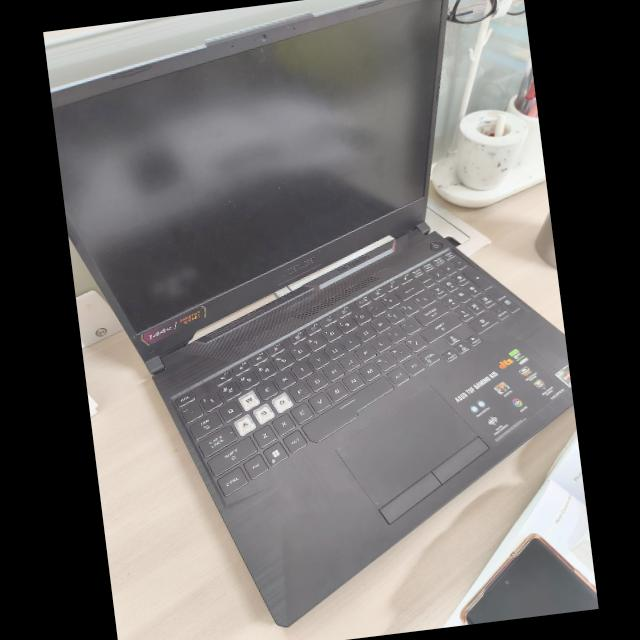laptop: (57, 0, 567, 631)
